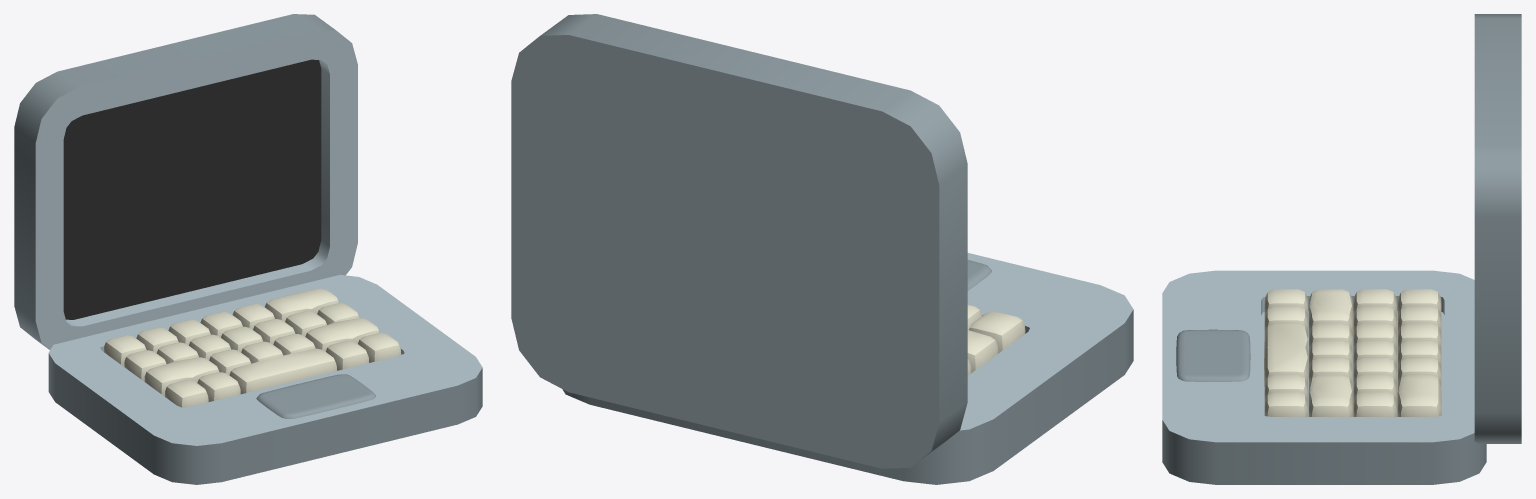
The model's file is laptop.glb.
3 views of the same model, side by side, from view 1: azimuth 30°, elevation 25°; view 2: azimuth 150°, elevation 25°; view 3: azimuth 270°, elevation 25° (orthographic). The views are drawn at different scales.
Parts seen in each view (by area): view 1: Laptop; view 2: Laptop; view 3: Laptop.
Boxes of the visible parts, x1,y1,x2,y2 form: Laptop: (14,14,482,484); Laptop: (511,14,1133,484); Laptop: (1162,14,1521,484).
Size of the model in its own units: 1.07 by 0.925 by 0.9503.
Materials: 1 (1 with a texture image).
